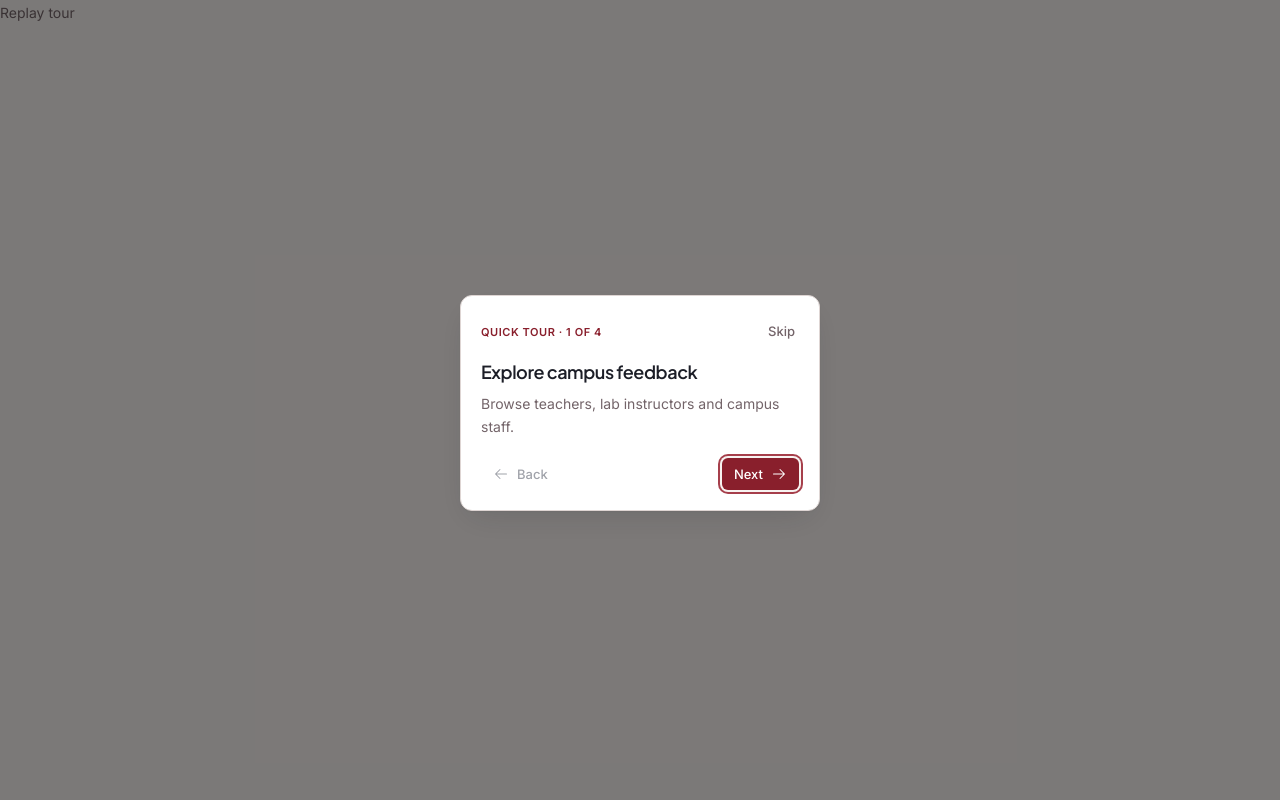
Test: supports Back and Finish and remembers completion across visits
Step 1. Click the button "Next" → x=760, y=474, box [722,458,799,490]
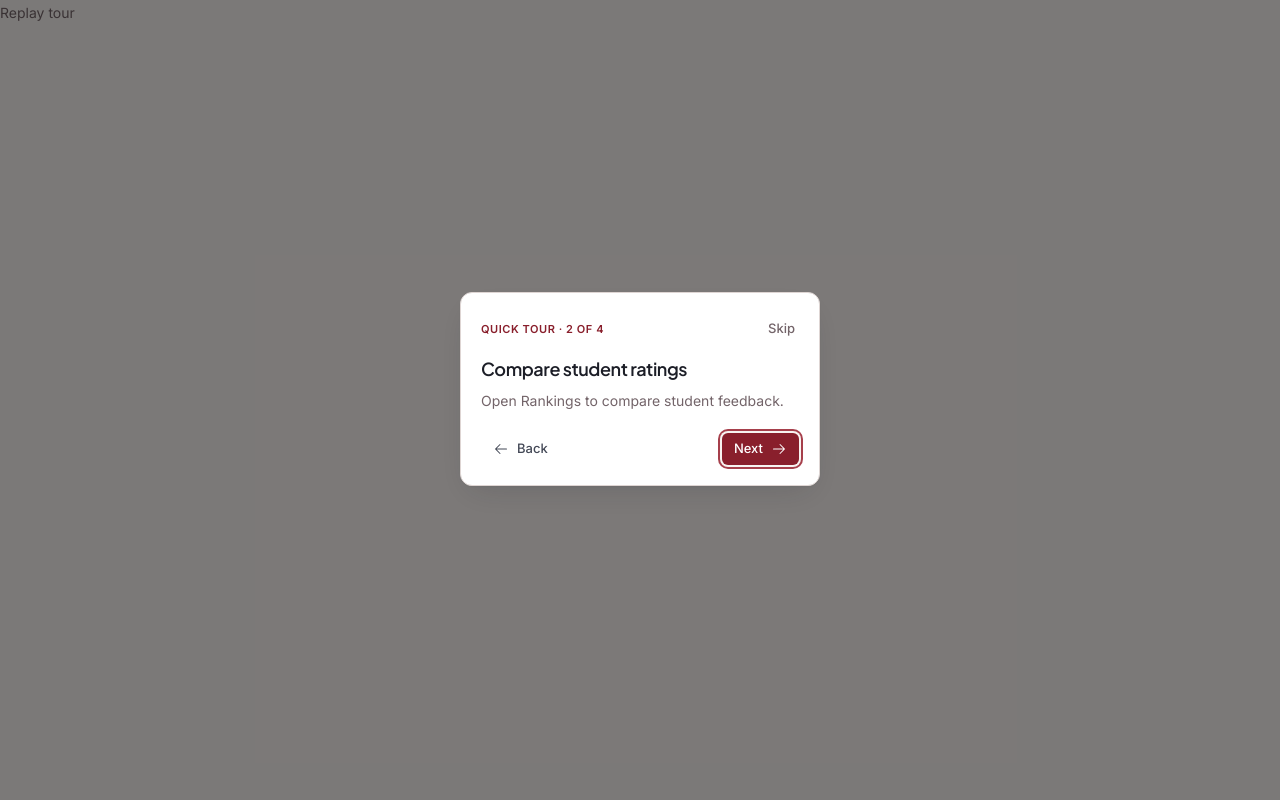
Step 2. Click the button "Back" → x=520, y=448, box [481,432,560,464]
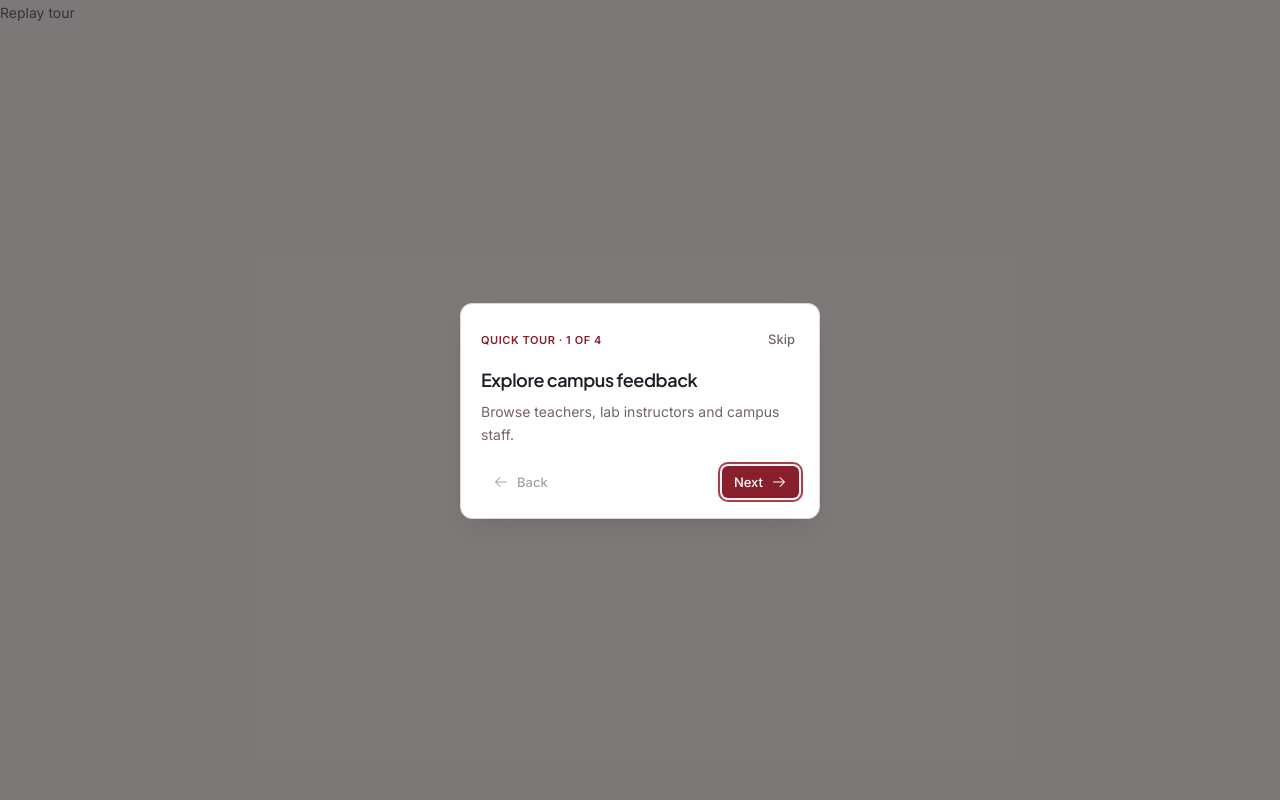
Expected: the text "Explore campus feedback" is shown, [481,368,697,391]
Step 3. Click the button "Next" → x=760, y=482, box [722,466,799,498]
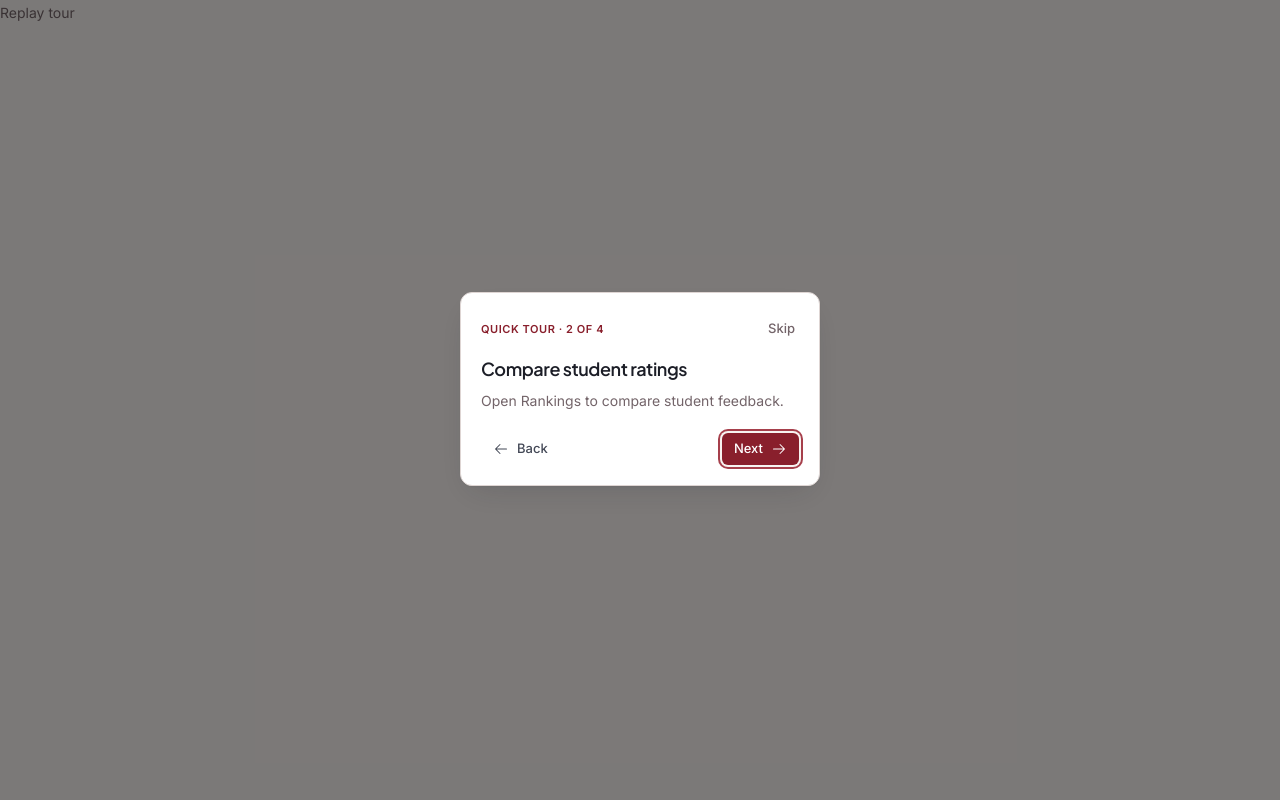
Step 4. Click the button "Next" → x=760, y=448, box [722,432,799,464]
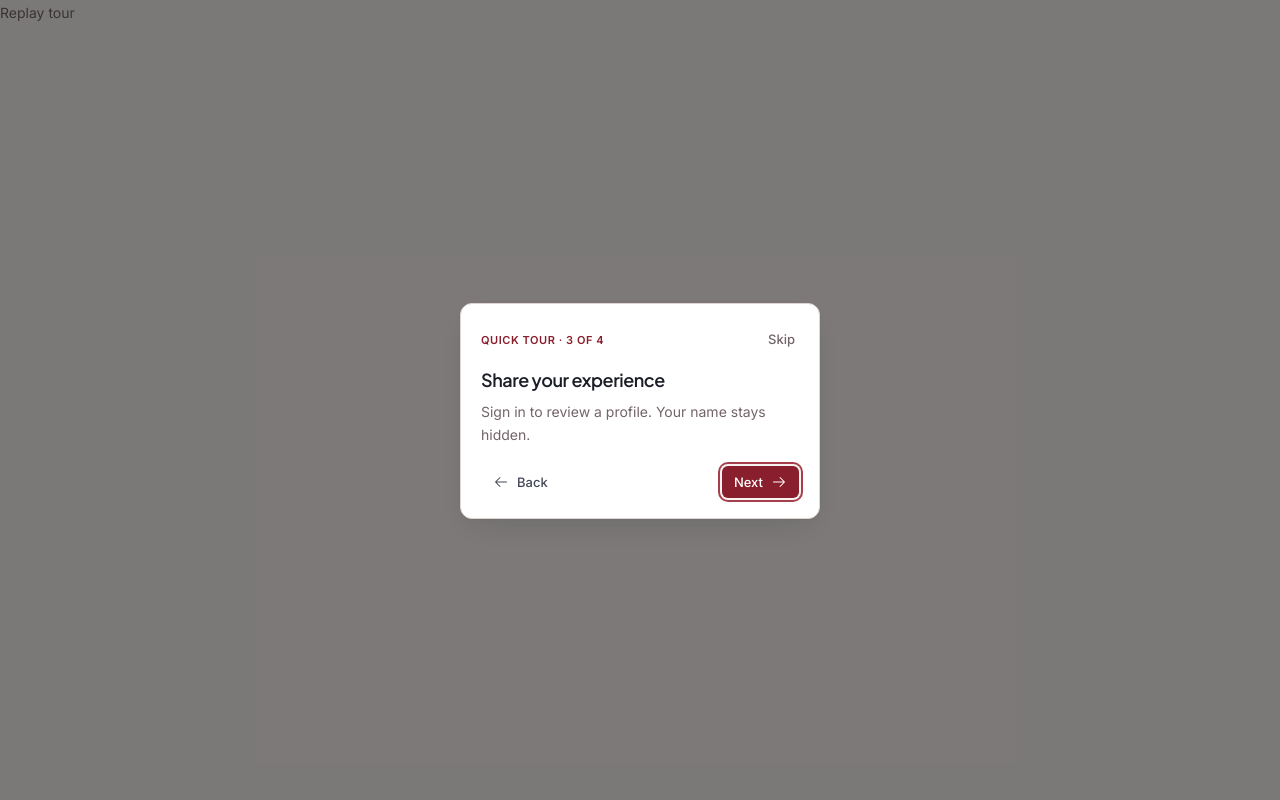
Expected: the text "Your name stays hidden." is shown, [481,403,766,443]
Step 5. Click the button "Next" → x=760, y=482, box [722,466,799,498]
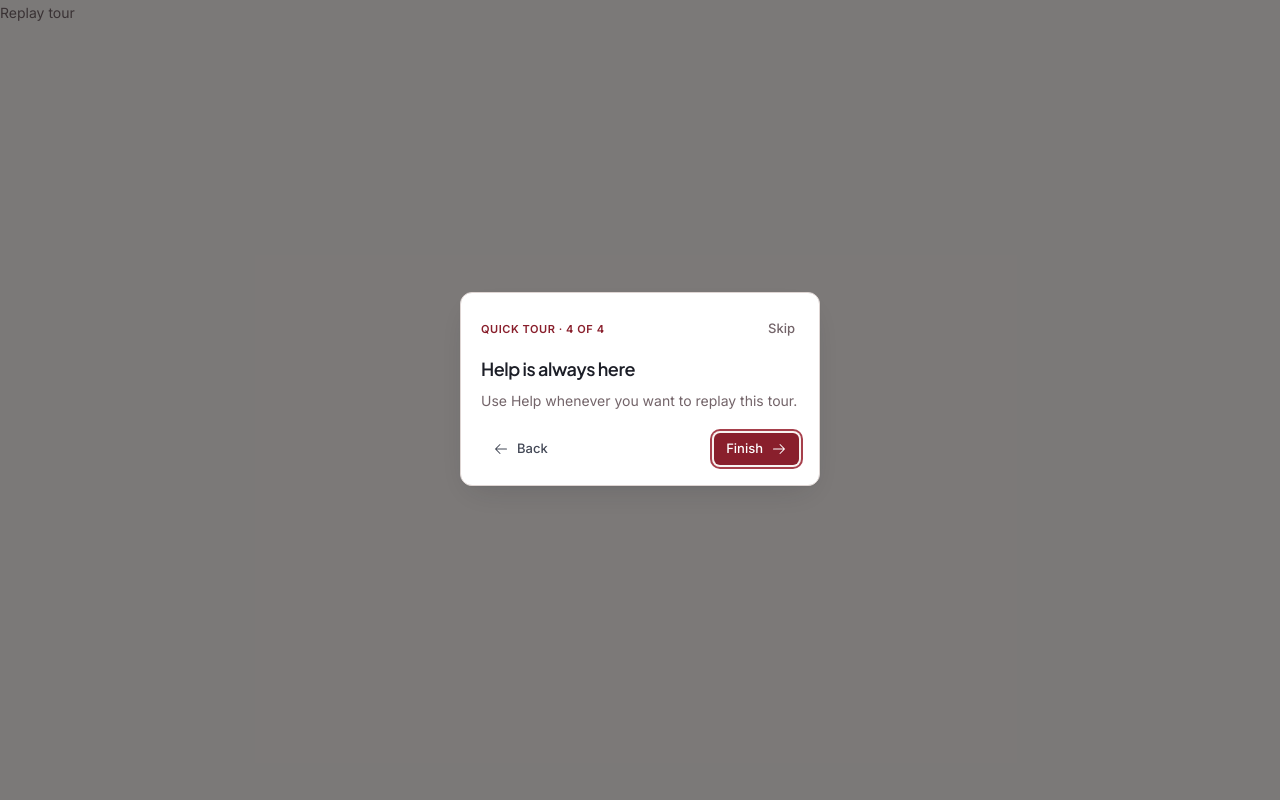
Expected: the text "Help is always here" is shown, [481,357,635,380]
Step 6. Click the button "Finish" → x=757, y=448, box [714,432,799,464]
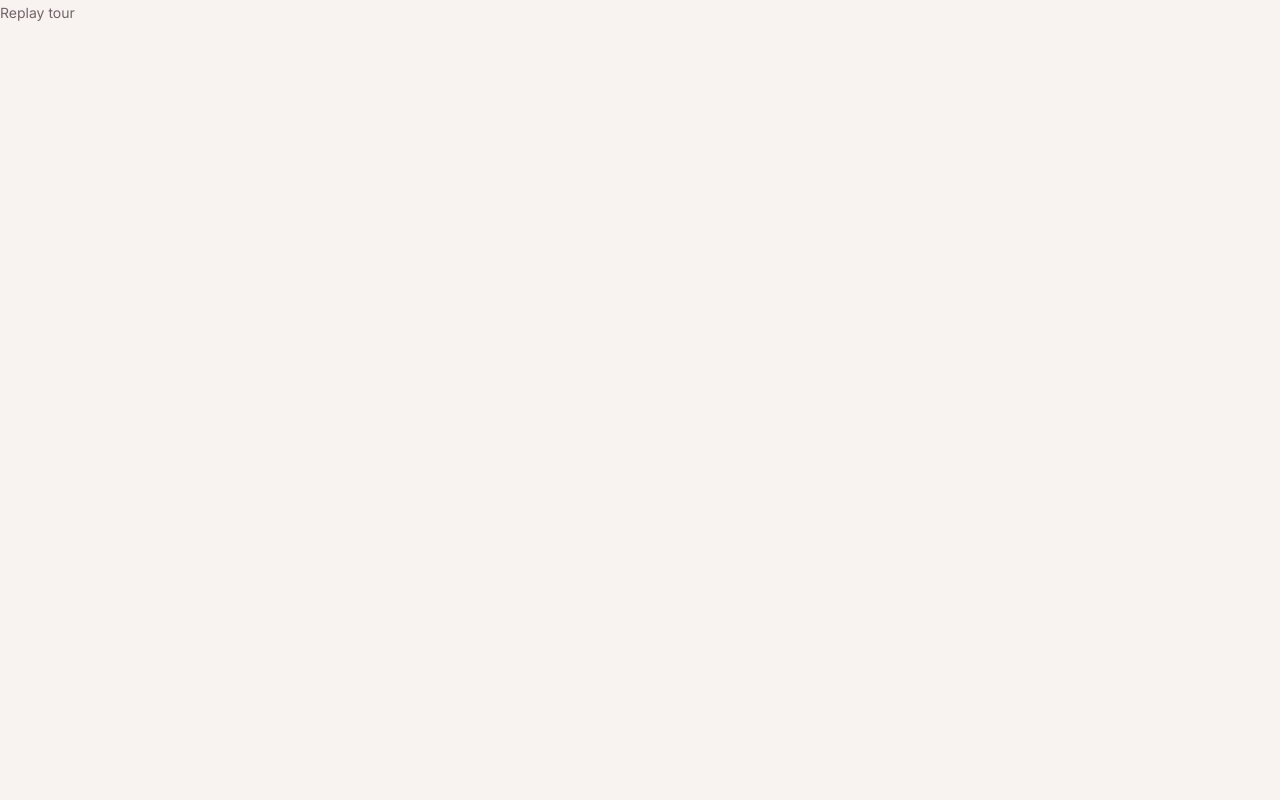
Expected: the dialog is gone
